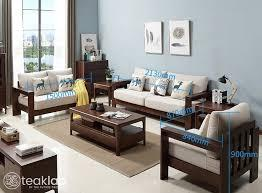chair: (159, 106, 262, 193)
light: (212, 74, 238, 103)
sofa: (115, 67, 207, 124), (14, 68, 85, 118)
table: (1, 121, 59, 193), (70, 106, 151, 153), (194, 100, 236, 128), (92, 78, 130, 105), (77, 60, 112, 81), (0, 52, 7, 120)
